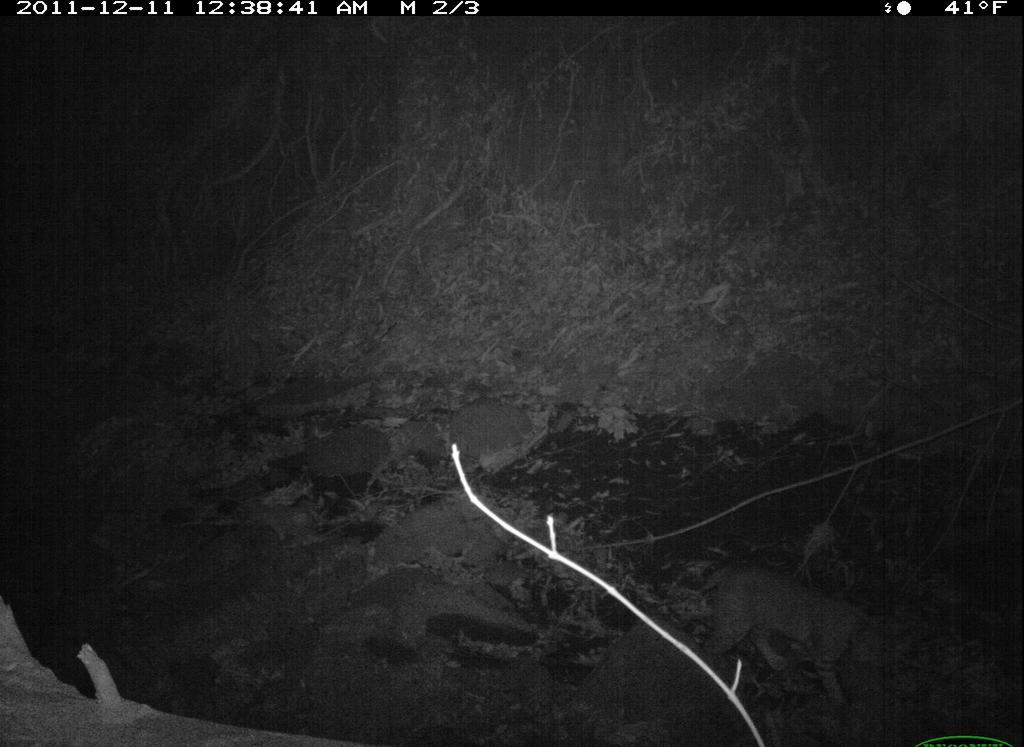bobcat: (693, 556, 902, 711)
